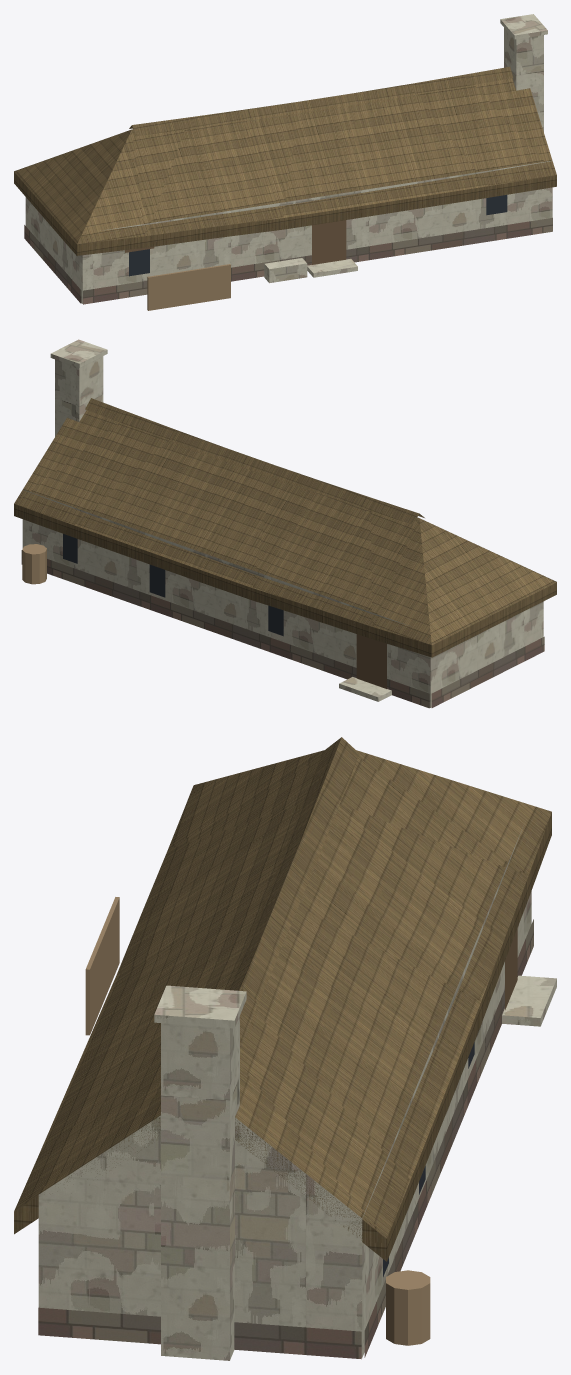
3 views of the same model, one above another, from view 1: azimuth 30°, elevation 25°; view 2: azimuth 150°, elevation 25°; view 3: azimuth 270°, elevation 25° (orthographic). The views are drawn at different scales.
Parts seen in each view (by area): view 1: b001079_thatch, b001079_wall, b001079_base, b001079_wood, b001079_oak, b001079_glass; view 2: b001079_thatch, b001079_wall, b001079_base, b001079_oak, b001079_glass, b001079_wood; view 3: b001079_thatch, b001079_wall, b001079_base, b001079_wood.
Part boxes in pixels (box(x1,y1,x2,y2)): b001079_thatch: box(14, 66, 556, 255); b001079_wall: box(25, 14, 552, 303); b001079_base: box(24, 218, 552, 304); b001079_wood: box(147, 264, 230, 310); b001079_oak: box(125, 220, 346, 264); b001079_glass: box(129, 195, 507, 276); b001079_thatch: box(14, 398, 556, 657); b001079_wall: box(22, 339, 543, 707); b001079_base: box(21, 550, 544, 708); b001079_oak: box(356, 634, 386, 688); b001079_glass: box(63, 534, 283, 636); b001079_wood: box(22, 544, 46, 584); b001079_thatch: box(14, 737, 551, 1261); b001079_wall: box(38, 825, 556, 1360); b001079_base: box(38, 919, 533, 1359); b001079_wood: box(85, 897, 430, 1345).
Size of the model in its own units: 14.69 by 5.22 by 7.48.
6 materials, 3 textured.
